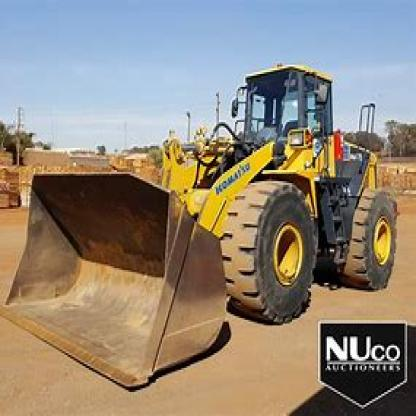bull_dozer/loader/grader: (1, 57, 412, 379)
